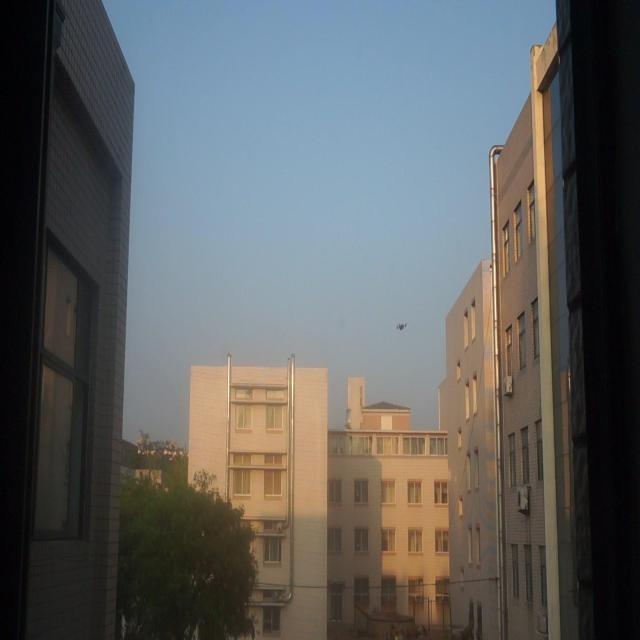drone: (396, 319, 408, 334)
